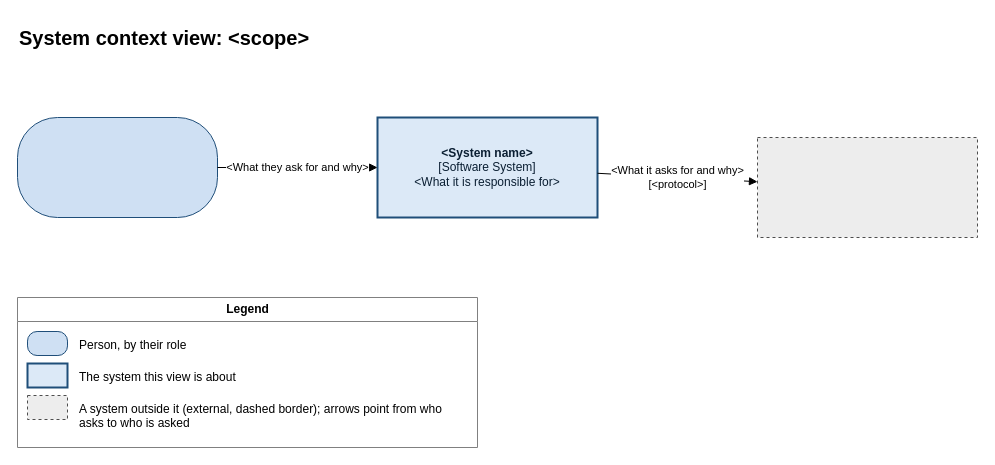
The diagram is 995 pixels wide and 465 high, and some of its shapes have lost their labels. Here are the shapes that lost their labels. From the top down, the box of each, then its label:
(16, 116, 218, 218): <Role name> [Person] <What they do with the system>
(756, 136, 978, 238): <System name> [Software System: external] <What it does for this system>
